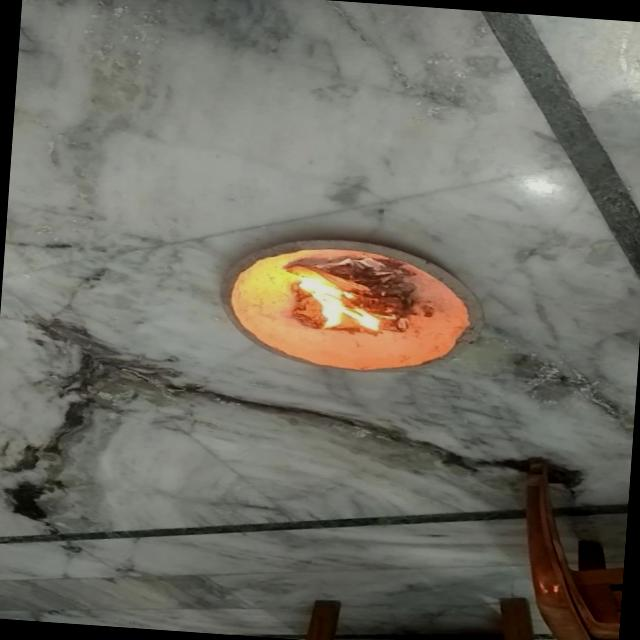fire: (272, 256, 377, 335)
